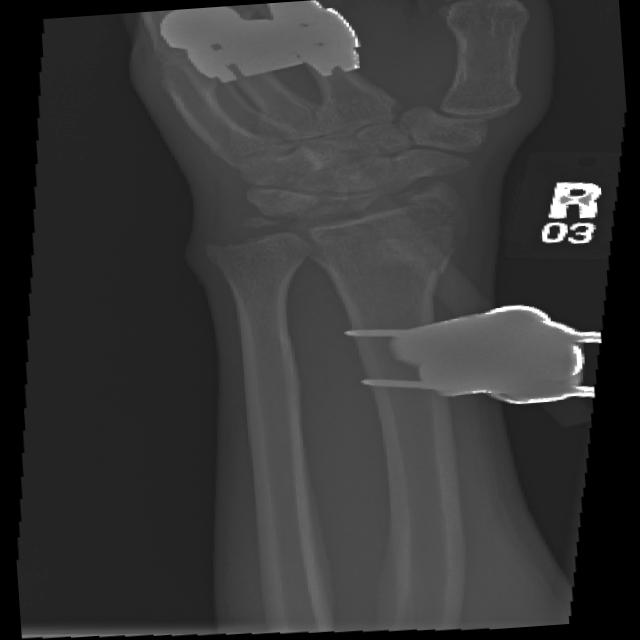fingers positive: (210, 170, 507, 285)
